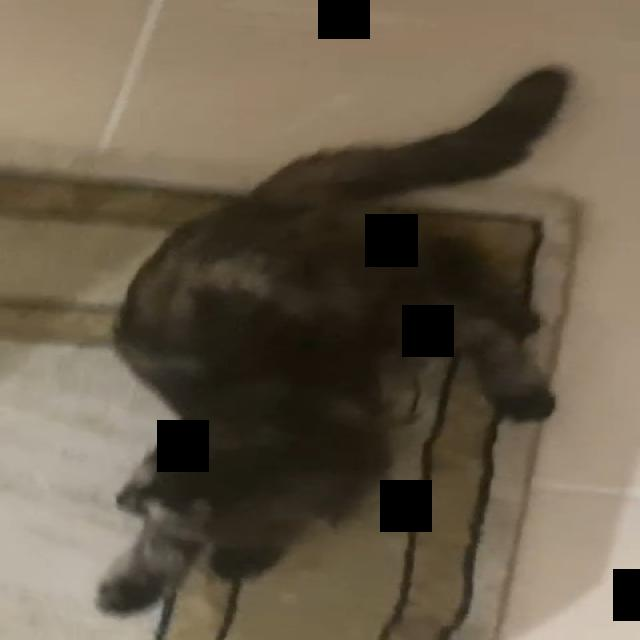authorized: (93, 64, 576, 638)
